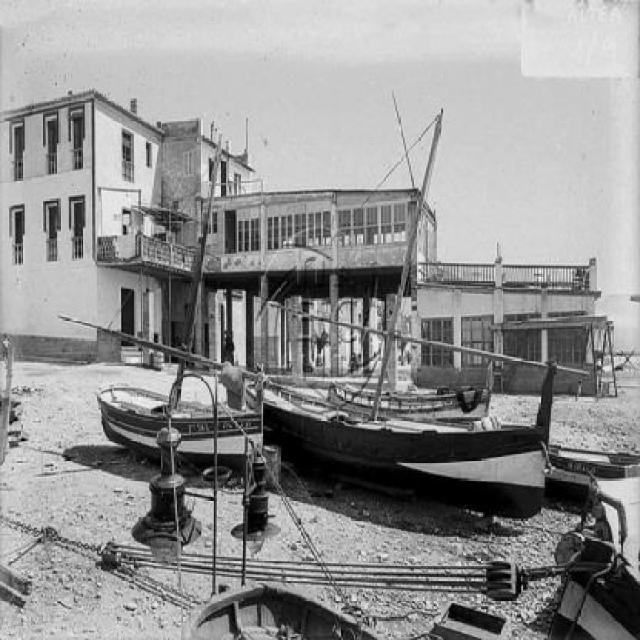Person: (222, 334, 236, 366)
